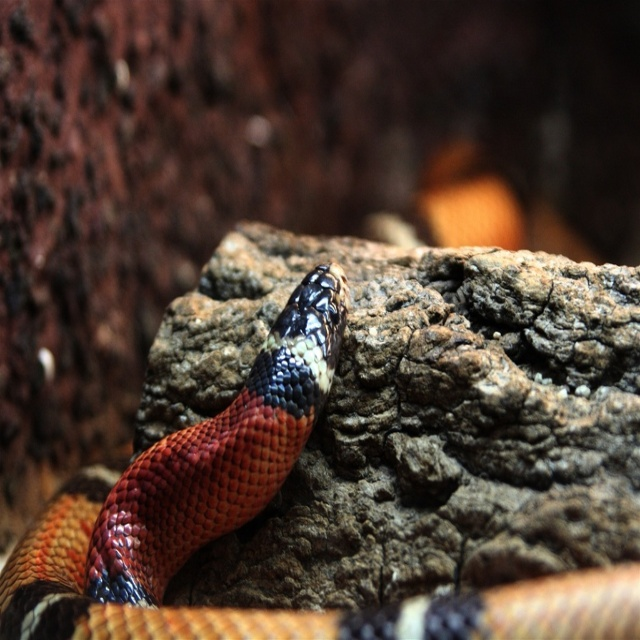Snake: (0, 257, 640, 639)
